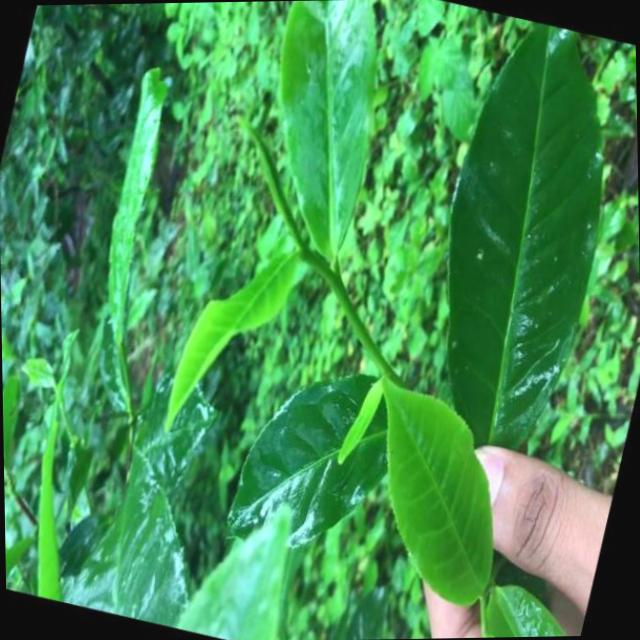Stem: (329, 276, 340, 290)
